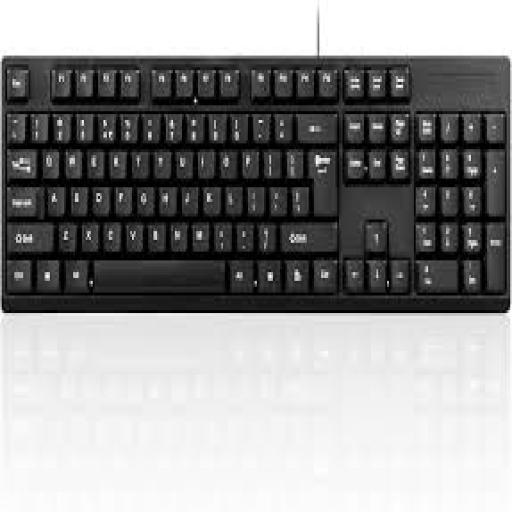keyboard: (2, 56, 510, 310)
